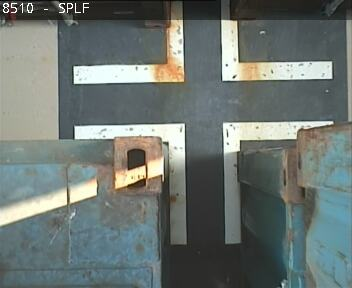groundmarker_1: (72, 121, 333, 244), (73, 1, 333, 82)
